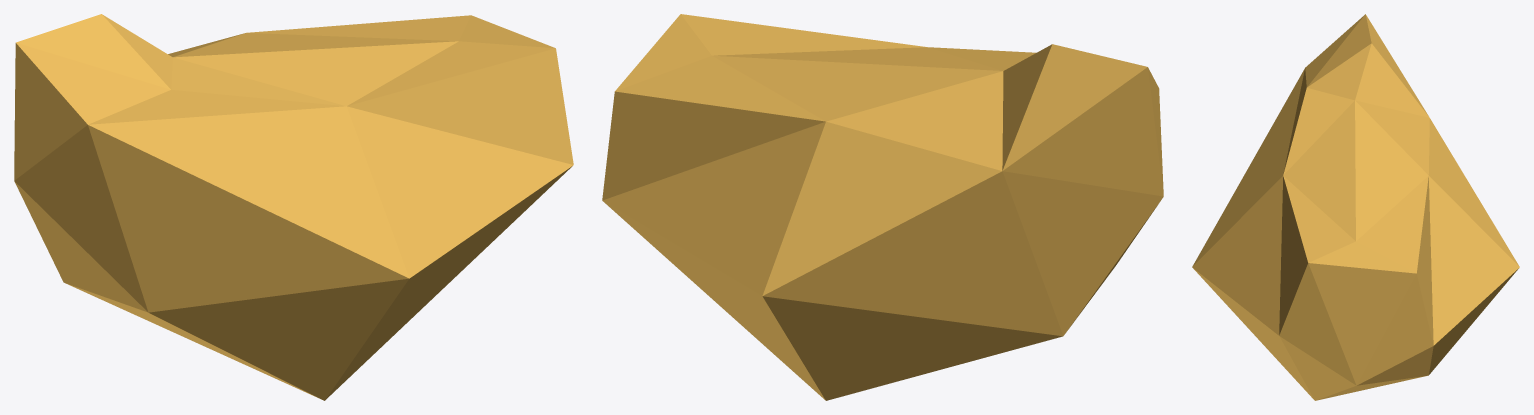
Rendered from SK_Chick.fbx.
3 views of the same model, side by side, from view 1: azimuth 30°, elevation 25°; view 2: azimuth 150°, elevation 25°; view 3: azimuth 270°, elevation 25° (orthographic). The views are drawn at different scales.
Visible parts, largest first — view 1: Chick; view 2: Chick; view 3: Chick.
Part boxes in pixels (<box>): Chick: <box>14,14,573,400</box>; Chick: <box>602,14,1163,400</box>; Chick: <box>1192,14,1519,400</box>.
Bounding box in the file's own units: 11.77 × 8.78 × 8.92.
